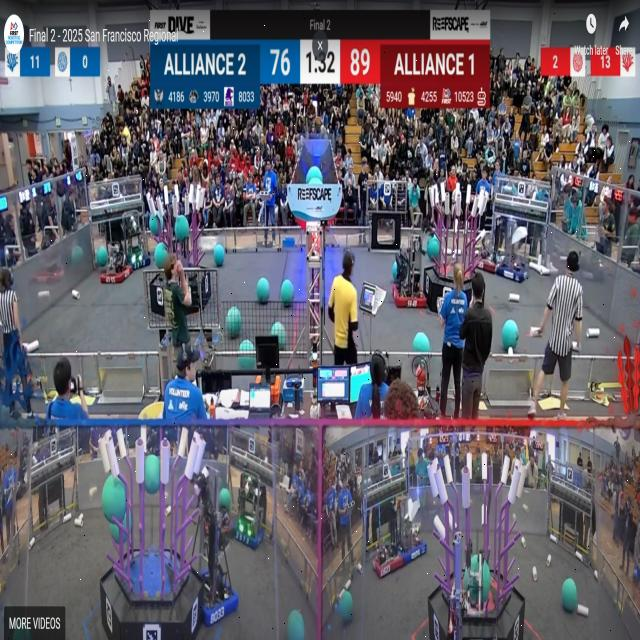Robot-YfA7: (201, 469, 236, 628), (232, 456, 262, 560), (392, 235, 427, 309), (496, 219, 532, 283), (399, 500, 429, 566), (372, 513, 400, 578), (126, 211, 150, 274), (100, 238, 132, 284), (480, 213, 496, 274)
